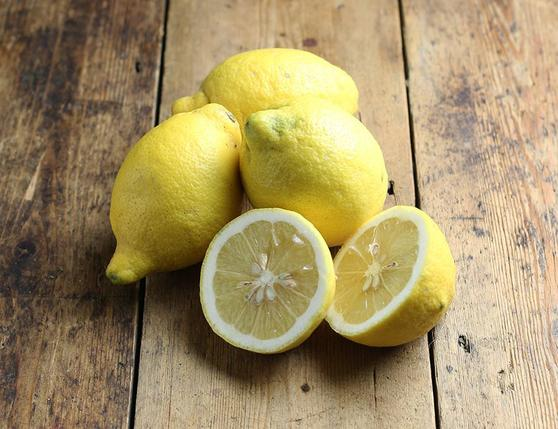lemon: (96, 93, 250, 280), (238, 95, 406, 240)
